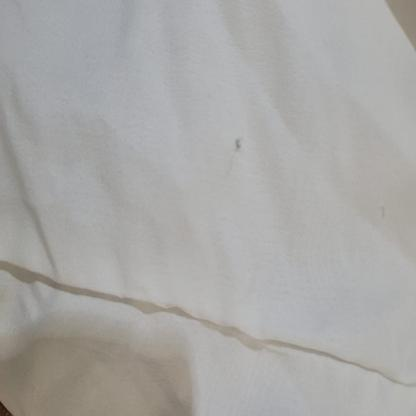spot: (228, 134, 250, 166), (263, 7, 281, 43), (376, 192, 390, 229)
